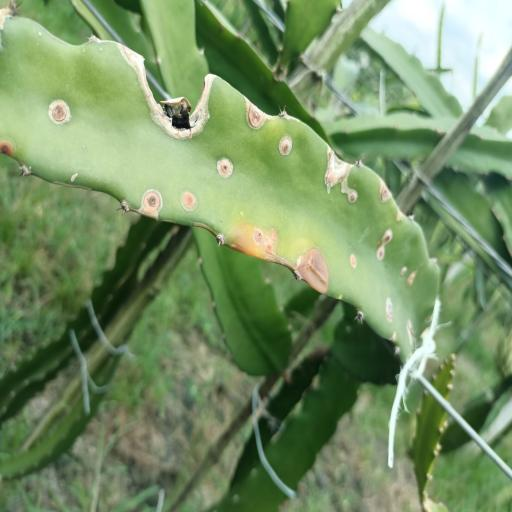stemcanker: (251, 218, 282, 260), (371, 225, 396, 266), (253, 225, 278, 256), (144, 188, 163, 215), (398, 264, 418, 288), (404, 268, 419, 288), (178, 191, 196, 207), (68, 165, 82, 185), (219, 160, 233, 180), (386, 298, 395, 326), (343, 255, 358, 270), (347, 187, 357, 204), (281, 141, 294, 154), (348, 255, 359, 270), (399, 262, 409, 278), (347, 191, 360, 203), (375, 234, 382, 246)
